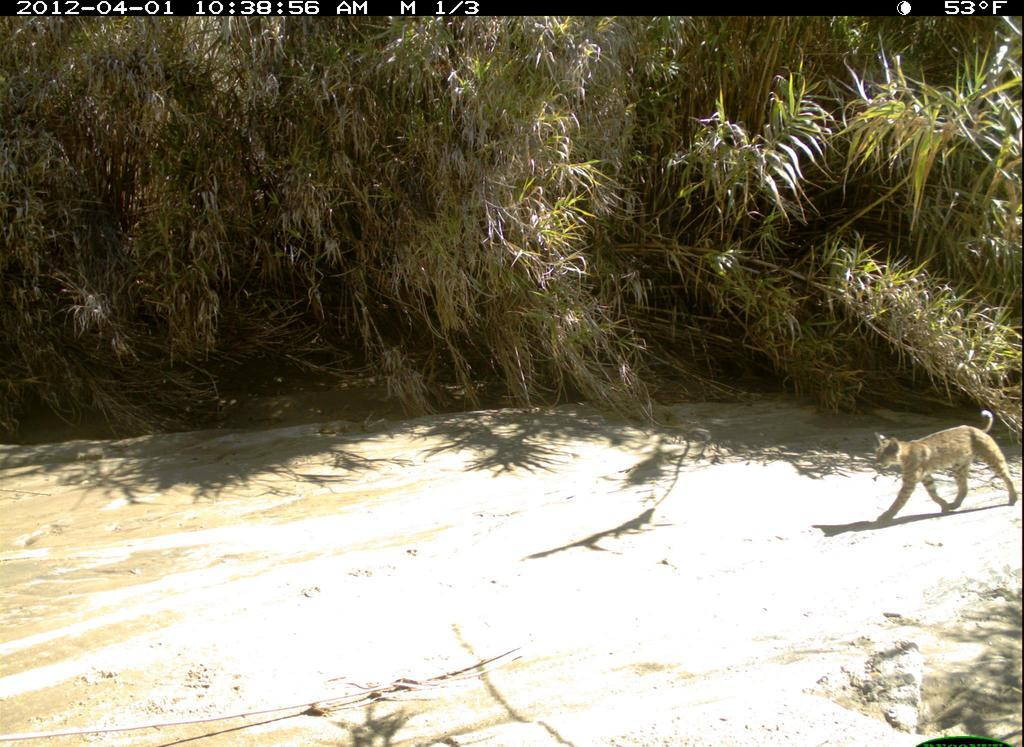bobcat: (867, 408, 1020, 526)
